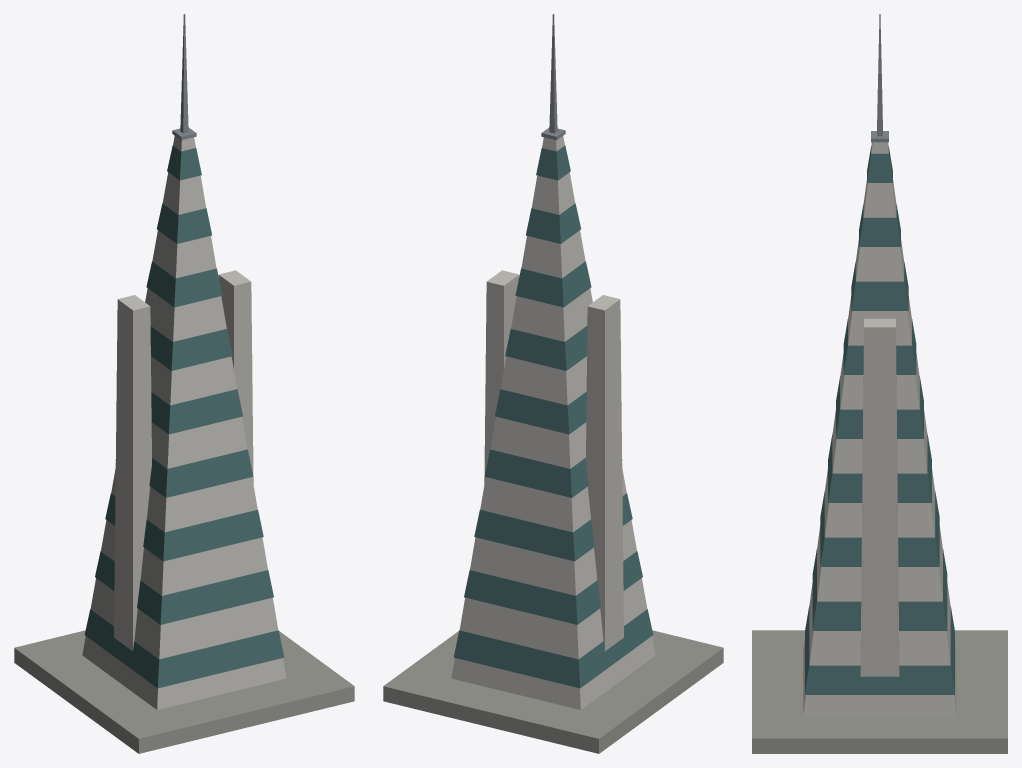
Rendered from mobile-low.glb.
3 views of the same model, side by side, from view 1: azimuth 30°, elevation 25°; view 2: azimuth 150°, elevation 25°; view 3: azimuth 270°, elevation 25° (orthographic). The views are drawn at different scales.
Visible parts, largest first — view 1: lm.pyramid-tower; view 2: lm.pyramid-tower; view 3: lm.pyramid-tower.
Part boxes in pixels (<box>): lm.pyramid-tower: <box>14,14,354,753</box>; lm.pyramid-tower: <box>383,14,723,753</box>; lm.pyramid-tower: <box>752,14,1007,753</box>.
Bounding box in the file's own units: 90 × 266 × 90.
